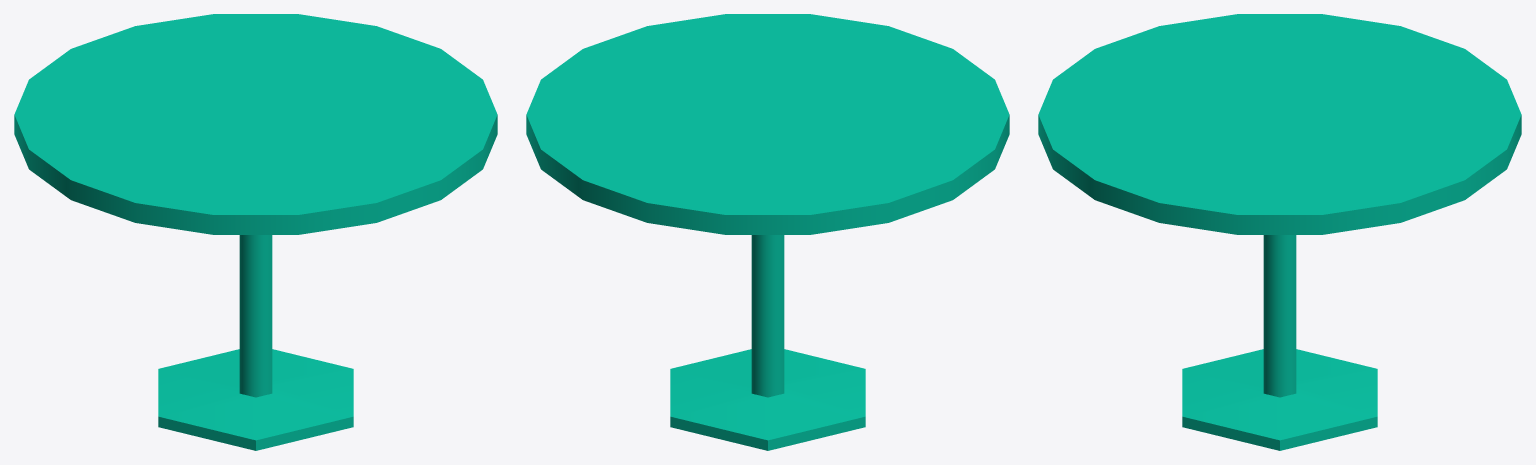
File: tukue.fbx
3 renders of one model, left to right at view 1: azimuth 30°, elevation 25°; view 2: azimuth 150°, elevation 25°; view 3: azimuth 270°, elevation 25°, orthographic.
Parts seen in each view (by area): view 1: pCylinder2; view 2: pCylinder2; view 3: pCylinder2.
Part boxes in pixels (x1,y1,x2,y2): pCylinder2: (14,14,497,450); pCylinder2: (526,14,1009,450); pCylinder2: (1038,14,1521,450).
Bounding box in the file's own units: 1.11 × 0.7514 × 1.13.
